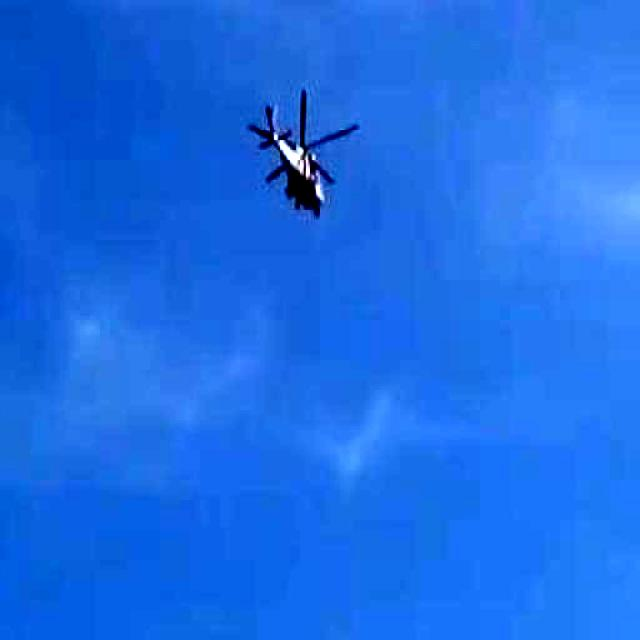drone: (218, 52, 384, 245)
